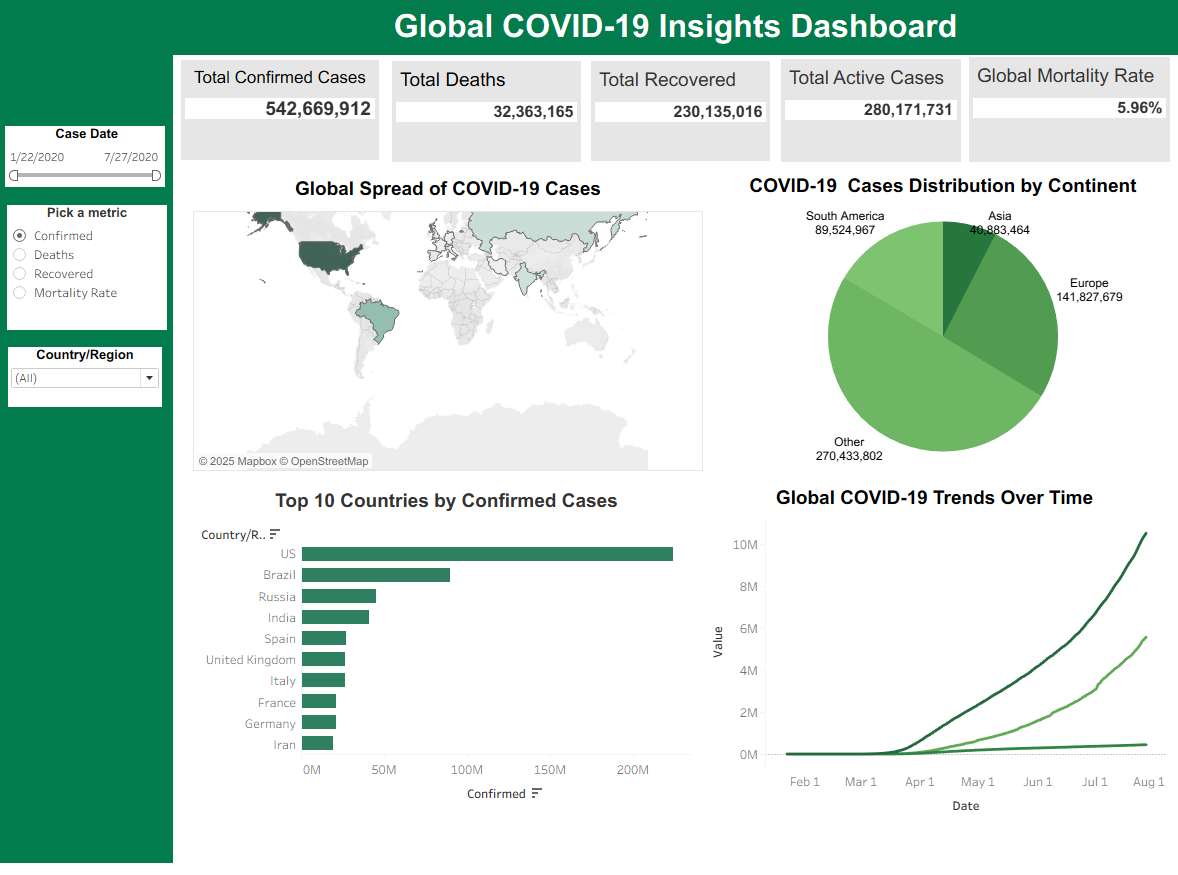

The dashboard page shown, as its layout file describes it:
{"tool":"tableau","page":{"name":"Dashboard 2","canvas":[1200,850],"ordinal":0},"visuals":[{"type":"text","box":[190,1,1007,57]},{"type":"worksheet","title":"Global Mortality Rate","mark":"Automatic","box":[987,60,201,65]},{"type":"worksheet","title":"Total Active","mark":"Automatic","box":[799,62,180,65]},{"type":"worksheet","title":"Total Confirmed","mark":"Automatic","box":[199,63,198,63]},{"type":"worksheet","title":"Total Deaths","mark":"Automatic","box":[410,64,189,65]},{"type":"worksheet","title":"Total Recovered","mark":"Automatic","box":[609,64,179,65]},{"type":"filter","title":"Global Spread of COVID-19 ","param":"[federated.1vh3igi09ehv4m16ugqcy06vnsyh].[none:Date:qk]","box":[23,129,160,61]},{"type":"worksheet","title":"Pie Chart","mark":"Pie","box":[745,174,432,294]},{"type":"worksheet","title":"Global Spread of COVID-19 ","mark":"Automatic","box":[211,177,510,297]},{"type":"parameter","param":"[Parameters].[Parameter 1]","box":[25,208,160,125]},{"type":"filter","title":"Global COVID-19 Trends Over Time","param":"[federated.1vh3igi09ehv4m16ugqcy06vnsyh].[none:Country/Region:nk]","box":[26,350,154,60]},{"type":"worksheet","title":"Global COVID-19 Trends Over Time","mark":"Line","cols":["Date"],"box":[720,486,465,338]},{"type":"worksheet","title":"Top 10 Countries by Confirmed Cases","mark":"Automatic","rows":["Country/Region"],"cols":["Calculation_1436648309796696065"],"box":[219,489,491,324]}]}

Visuals, with their boxes on the page's 1200x850 design canvas (x1, y1, x2, y2). These are canvas units, not pixel positions in the 1178x875 screenshot, which may show the page scaled, cropped or inside an application window:
text: {"left": 190, "top": 1, "right": 1197, "bottom": 58}
"Global Mortality Rate" worksheet: {"left": 987, "top": 60, "right": 1188, "bottom": 125}
"Total Active" worksheet: {"left": 799, "top": 62, "right": 979, "bottom": 127}
"Total Confirmed" worksheet: {"left": 199, "top": 63, "right": 397, "bottom": 126}
"Total Deaths" worksheet: {"left": 410, "top": 64, "right": 599, "bottom": 129}
"Total Recovered" worksheet: {"left": 609, "top": 64, "right": 788, "bottom": 129}
"Global Spread of COVID-19 " filter: {"left": 23, "top": 129, "right": 183, "bottom": 190}
"Pie Chart" worksheet (Pie marks): {"left": 745, "top": 174, "right": 1177, "bottom": 468}
"Global Spread of COVID-19 " worksheet: {"left": 211, "top": 177, "right": 721, "bottom": 474}
parameter: {"left": 25, "top": 208, "right": 185, "bottom": 333}
"Global COVID-19 Trends Over Time" filter: {"left": 26, "top": 350, "right": 180, "bottom": 410}
"Global COVID-19 Trends Over Time" worksheet (Line marks): {"left": 720, "top": 486, "right": 1185, "bottom": 824}
"Top 10 Countries by Confirmed Cases" worksheet: {"left": 219, "top": 489, "right": 710, "bottom": 813}
